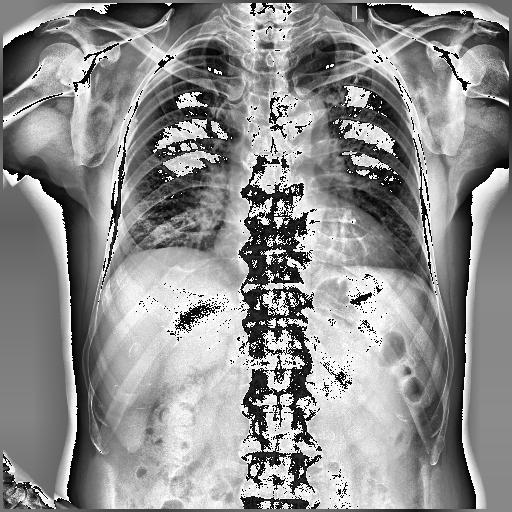0- Aortic enlargement: (268, 90, 332, 176), (276, 86, 330, 152), (279, 86, 331, 146)
13- Pulmonary fibrosis: (353, 71, 365, 83)
3- Cardiomegaly: (208, 221, 396, 284), (212, 224, 392, 276), (216, 218, 396, 268)
9- Other lesion: (134, 119, 140, 123)
